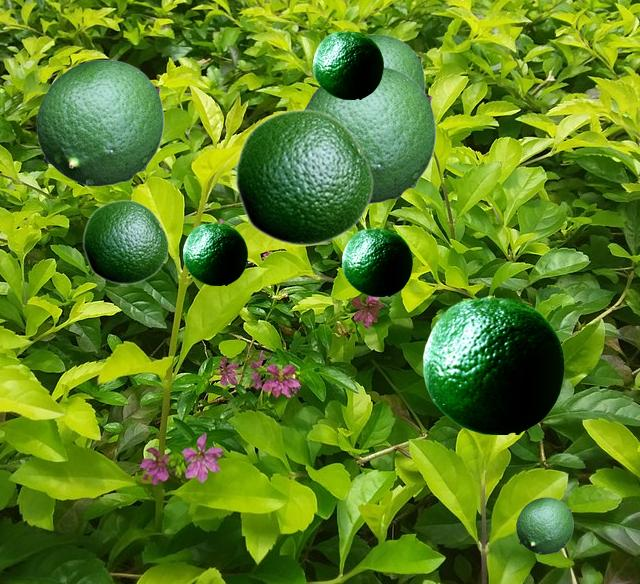calamansi: (423, 295, 563, 433), (234, 108, 373, 246), (303, 65, 435, 203), (36, 59, 163, 185), (82, 199, 168, 284), (313, 30, 382, 98), (342, 227, 411, 295), (183, 222, 246, 284), (366, 34, 424, 90), (516, 497, 572, 553)
